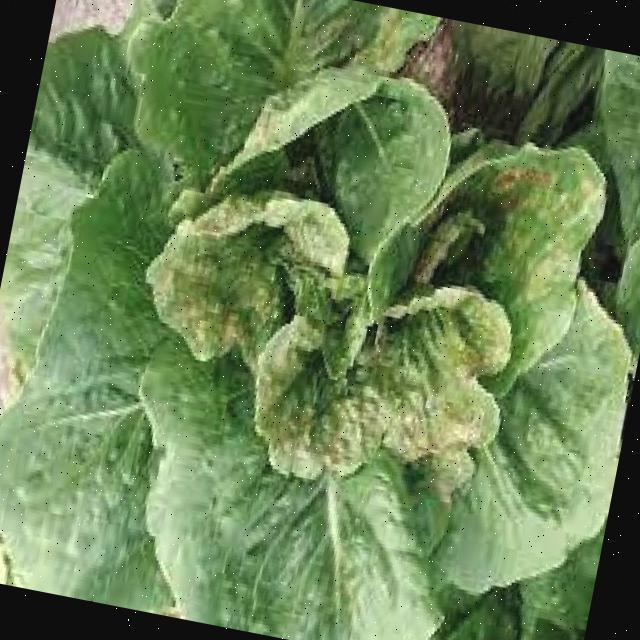Lettuce Mosaic Virus: (106, 77, 607, 582)
